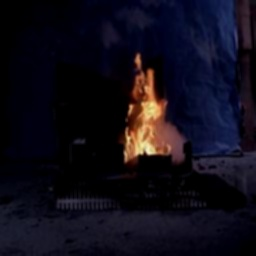fire: (117, 51, 181, 166)
